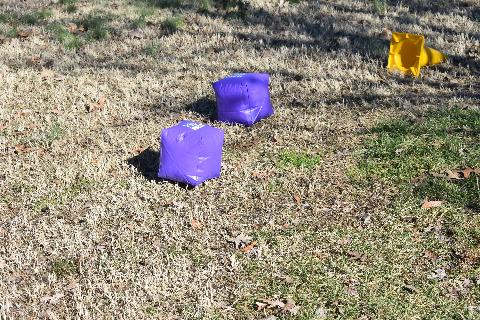cone: (387, 32, 449, 78)
cube: (158, 120, 224, 187), (212, 72, 274, 126)
